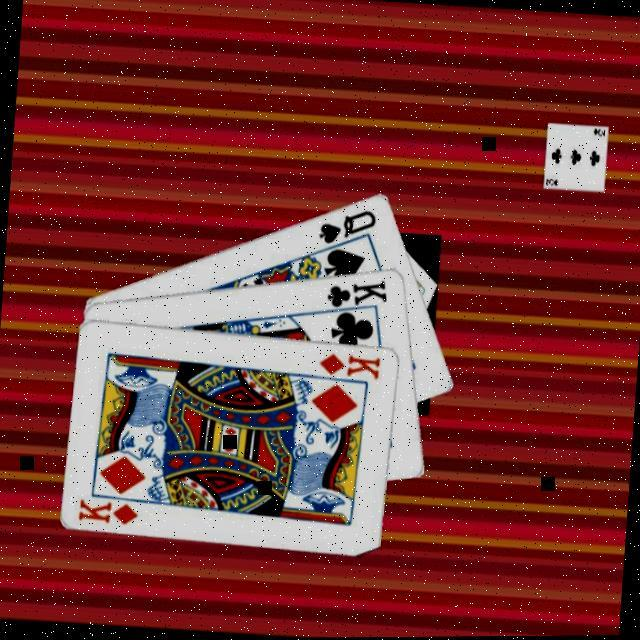KC: (319, 273, 392, 320)
KD: (316, 348, 385, 381), (75, 494, 142, 527)
QS: (315, 202, 381, 248)
